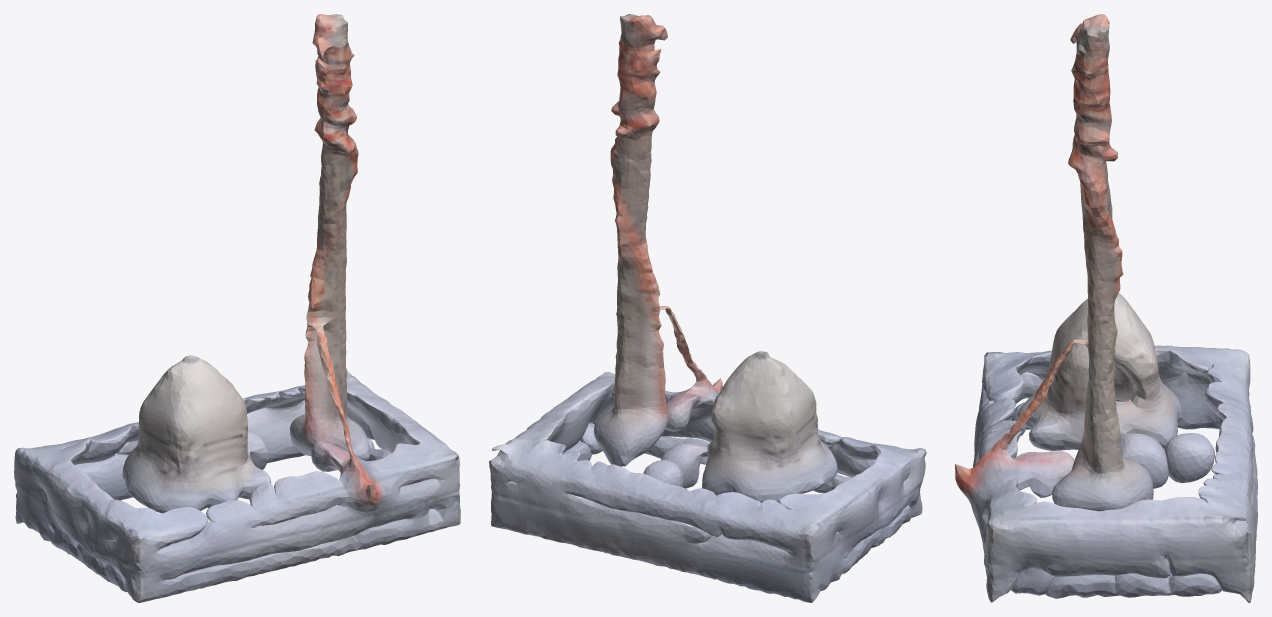
The model's file is cu_quay.glb.
The picture shows the model from 3 angles, left to right: view 1: azimuth 30°, elevation 25°; view 2: azimuth 150°, elevation 25°; view 3: azimuth 270°, elevation 25°; orthographic projection. The views are drawn at different scales.
Bounding box in the file's own units: 0.7263 × 1.01 × 0.5063.
1 material, 1 textured.
